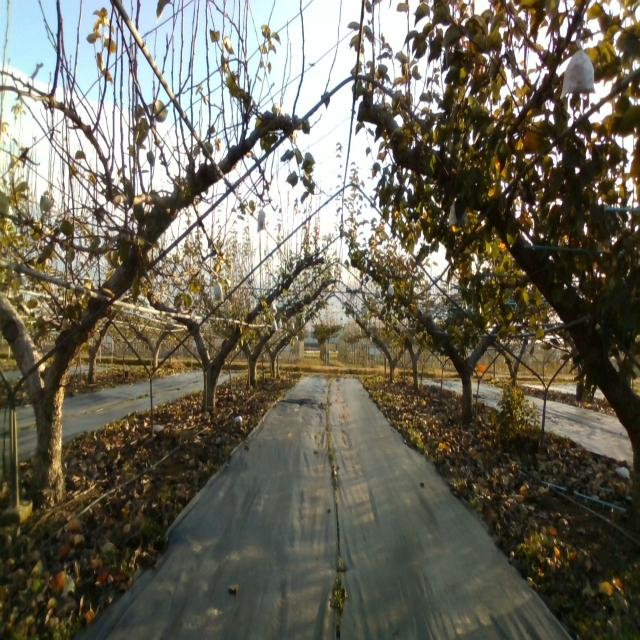pearbags: (560, 40, 596, 100), (212, 278, 224, 302)
